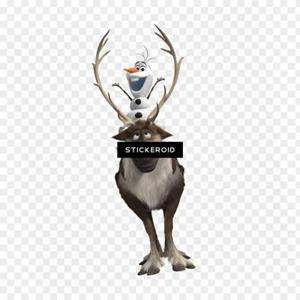sven: (104, 121, 208, 271)
